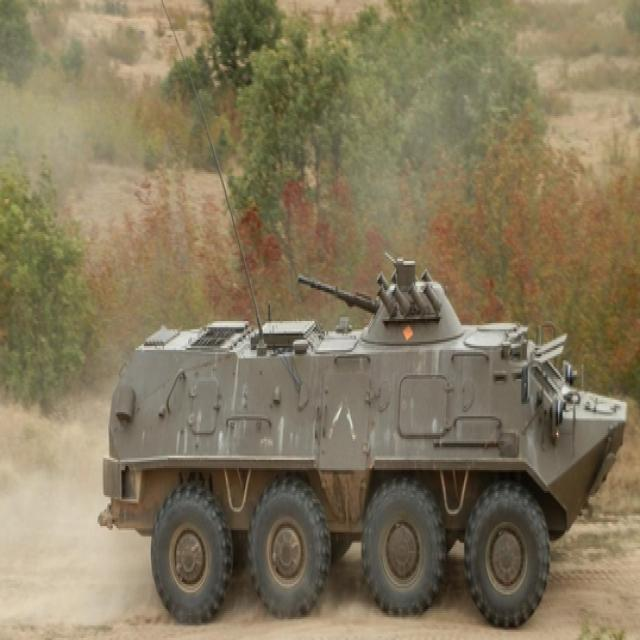MIL_APC: (108, 278, 636, 628)
